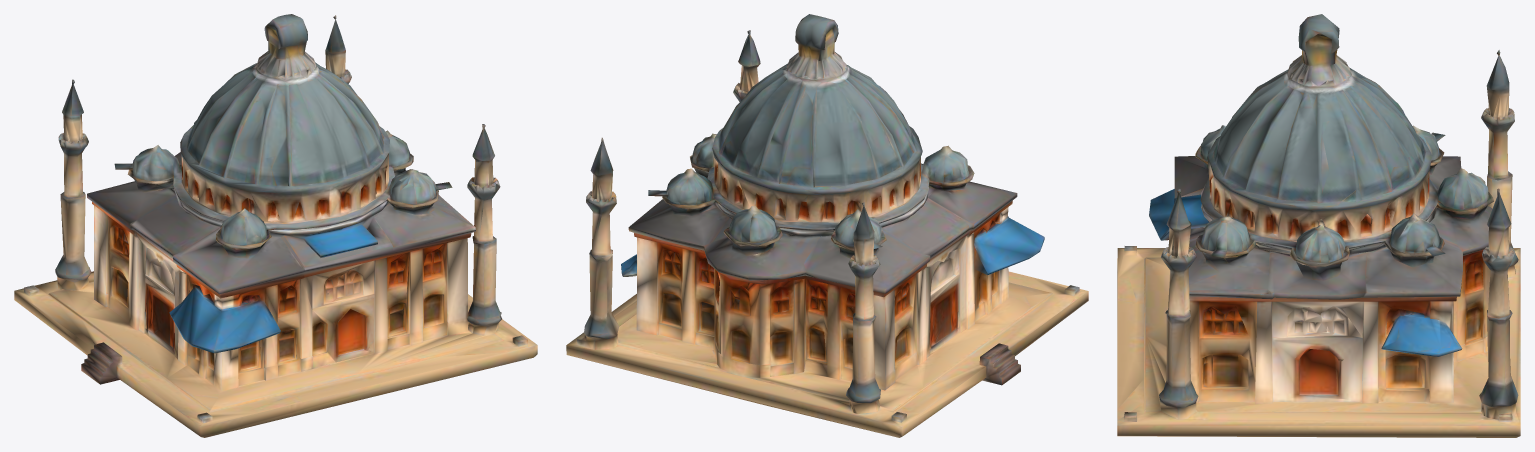
The model's file is lm_ayasofya.glb.
3 views of the same model, side by side, from view 1: azimuth 30°, elevation 25°; view 2: azimuth 150°, elevation 25°; view 3: azimuth 270°, elevation 25° (orthographic). The views are drawn at different scales.
Parts seen in each view (by area): view 1: node_0; view 2: node_0; view 3: node_0.
Boxes of the visible parts, <box> form: node_0: <box>14,14,537,437</box>; node_0: <box>566,14,1088,437</box>; node_0: <box>1117,14,1520,437</box>.
Size of the model in its own units: 0.7583 by 0.6422 by 0.6943.
1 material, 1 textured.
